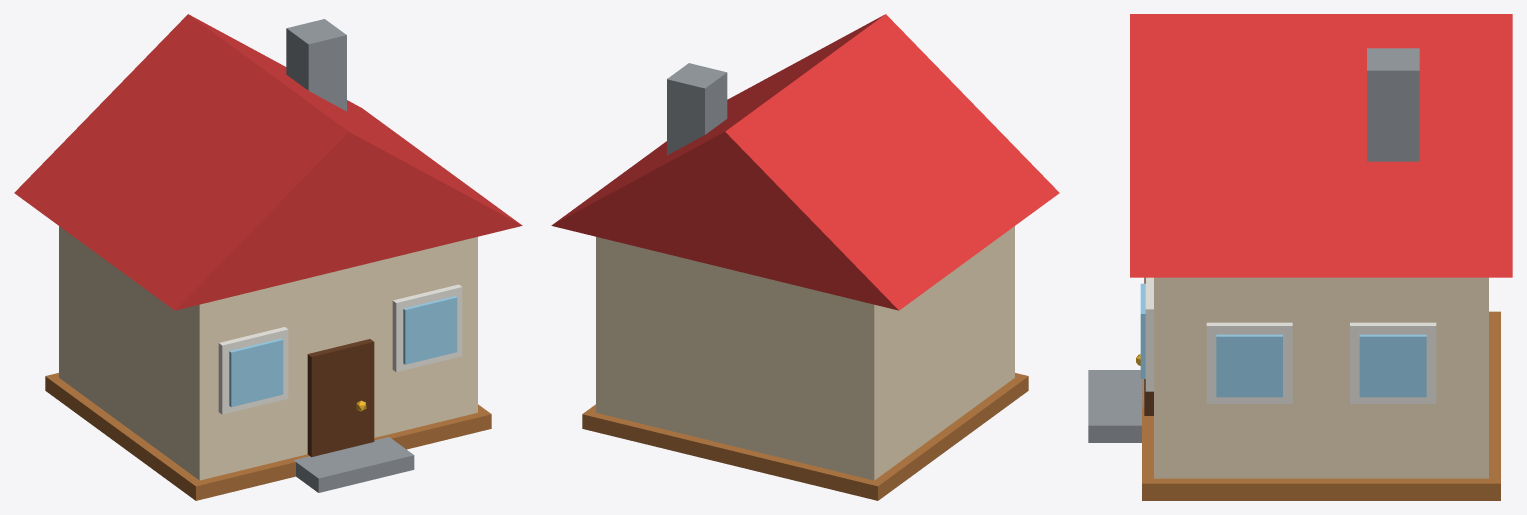
File: House.fbx
3 renders of one model, left to right at view 1: azimuth 30°, elevation 25°; view 2: azimuth 150°, elevation 25°; view 3: azimuth 270°, elevation 25°, orthographic. The views are drawn at different scales.
Parts seen in each view (by area): view 1: House; view 2: House; view 3: House.
Boxes of the visible parts, bbox=[...] form: House: bbox=[14, 14, 522, 500]; House: bbox=[551, 14, 1059, 500]; House: bbox=[1088, 14, 1512, 500].
Size of the model in its own units: 6 by 5.55 by 5.33.
Materials: 1 (1 with a texture image).
